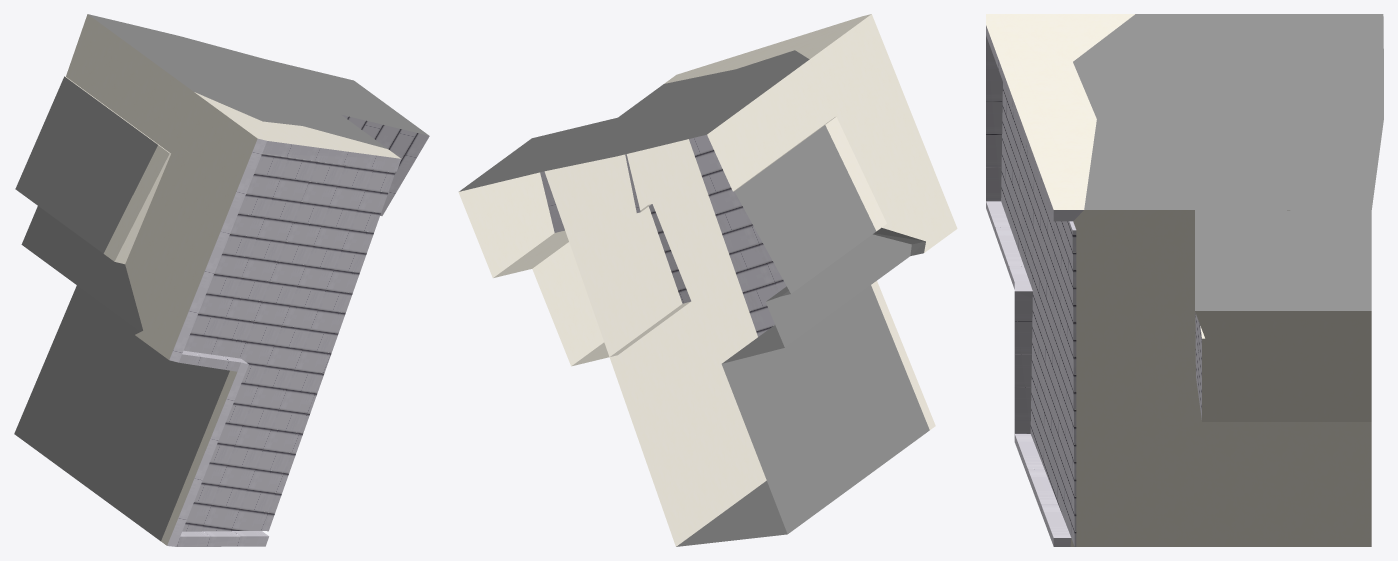
File: Pikk_53.obj
3 renders of one model, left to right at view 1: azimuth 30°, elevation 25°; view 2: azimuth 150°, elevation 25°; view 3: azimuth 270°, elevation 25°, orthographic. The views are drawn at different scales.
Parts seen in each view (by area): view 1: Pikk_53, xxx; view 2: Pikk_53, xxx; view 3: Pikk_53, xxx.
Boxes of the visible parts, x1,y1,x2,y2 form: Pikk_53: (65,14,429,546); xxx: (14,14,429,541); Pikk_53: (458,14,957,546); xxx: (459,50,929,546); Pikk_53: (986,14,1371,546); xxx: (1073,14,1383,310).
Bounding box in the file's own units: 18.55 × 22.19 × 15.63.
